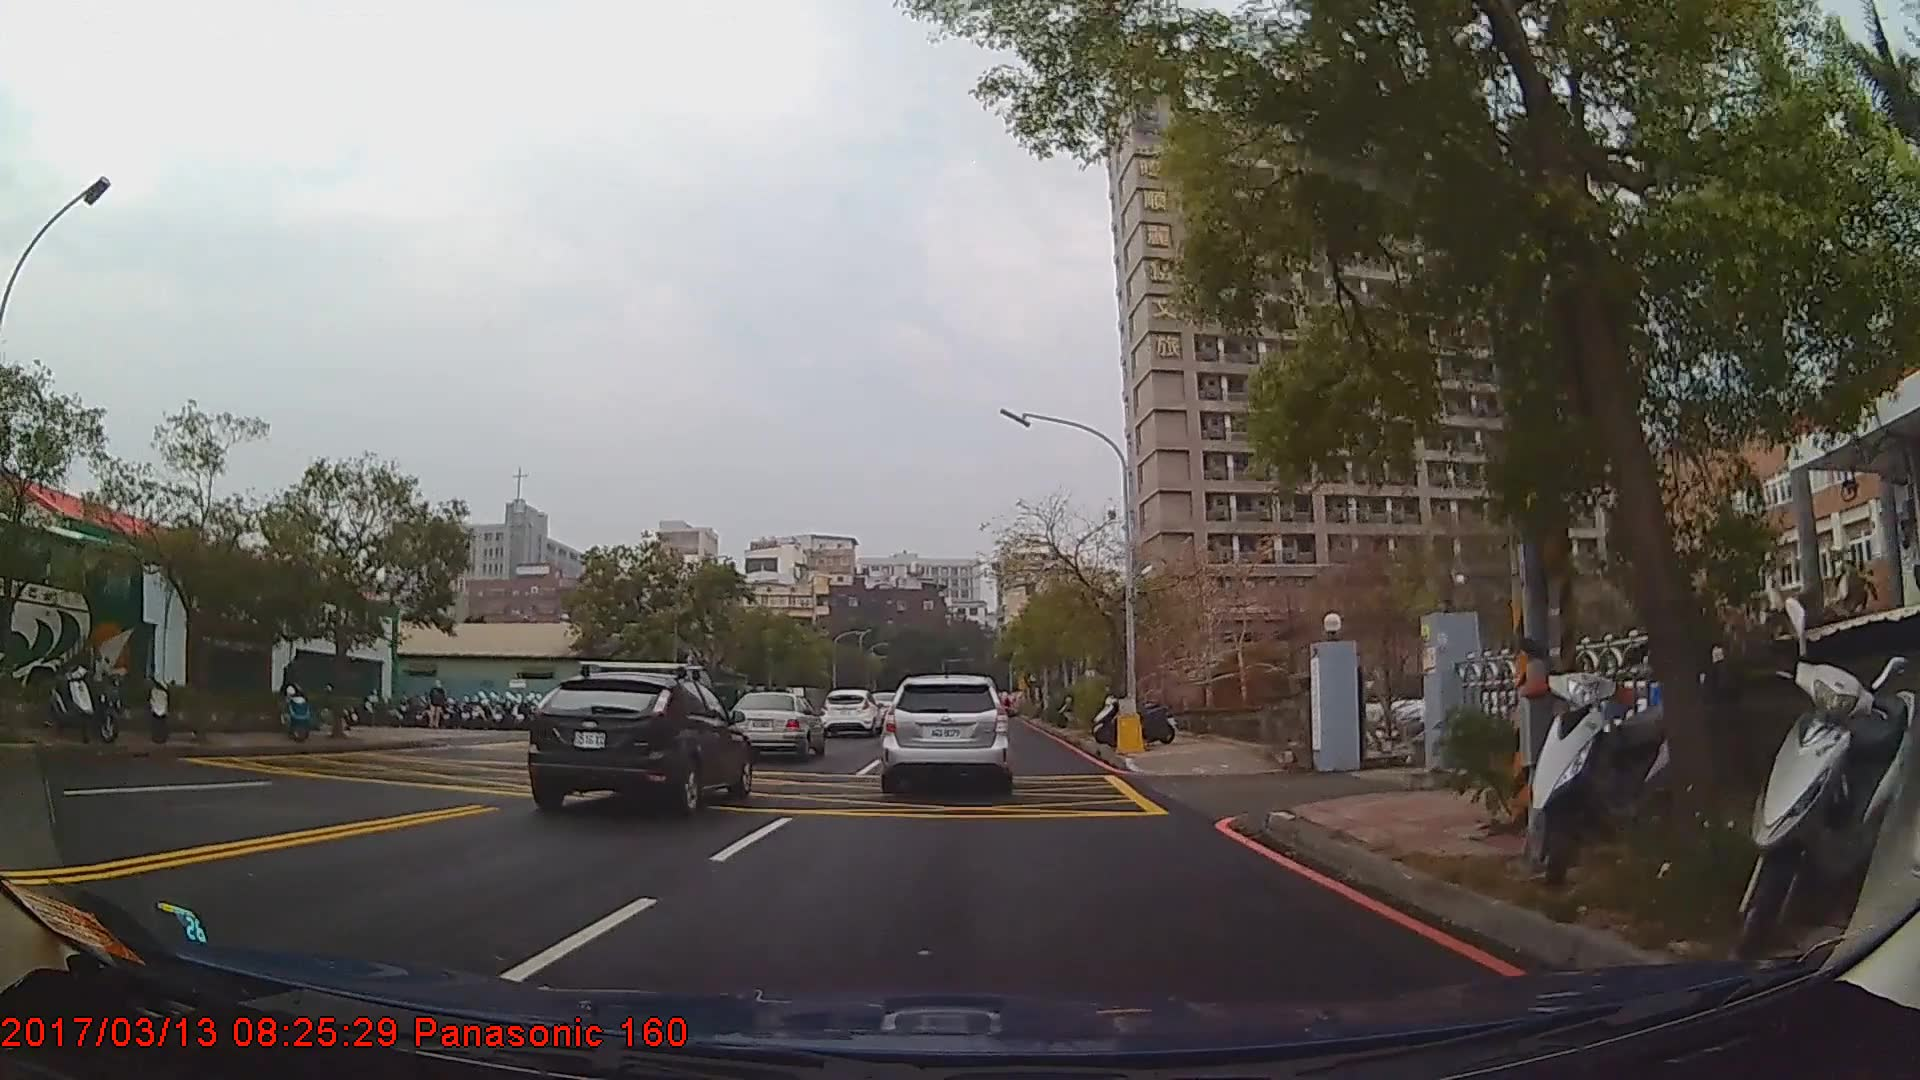pedestrian: (429, 680, 449, 730)
vehicle: (0, 502, 146, 724), (526, 668, 752, 812), (882, 673, 1008, 789), (727, 688, 823, 758), (820, 686, 882, 736)
